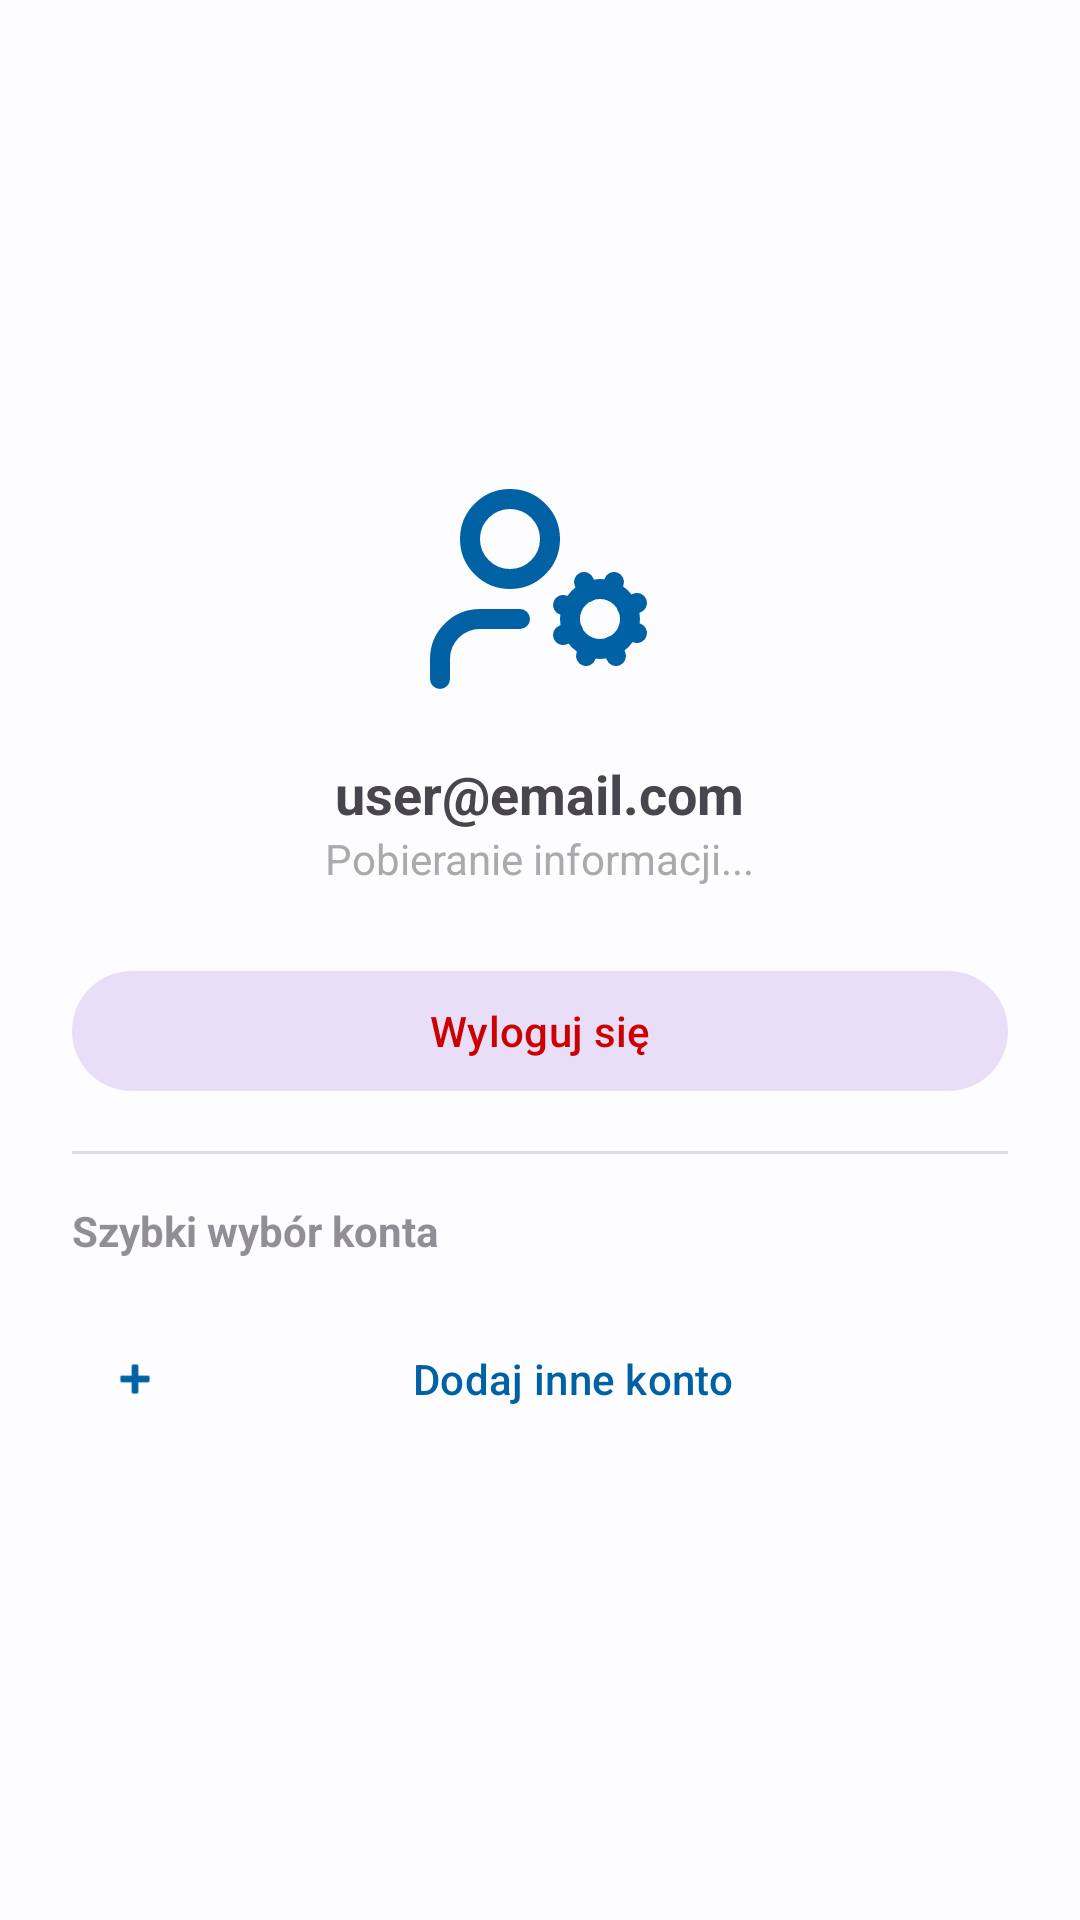

Icons on this 1080 × 1920 Android screen, each with its box as (x1, y1, x2, y2):
user settings: (430, 489, 647, 689)
